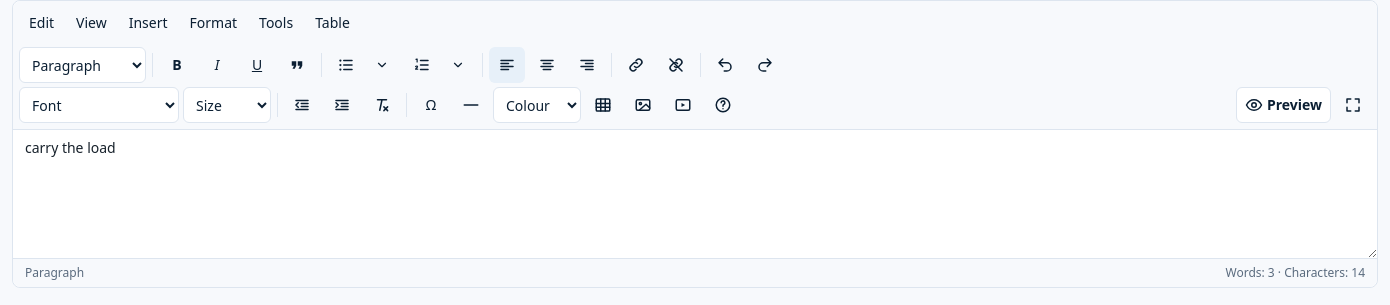
Scenario: MarkdownTextarea inline formatting › makes the selection bold, and bold again removes it
The width and height of the screenshot is (1390, 305).
Click the button named "Bold" at (177, 65), box [159,47,195,83]
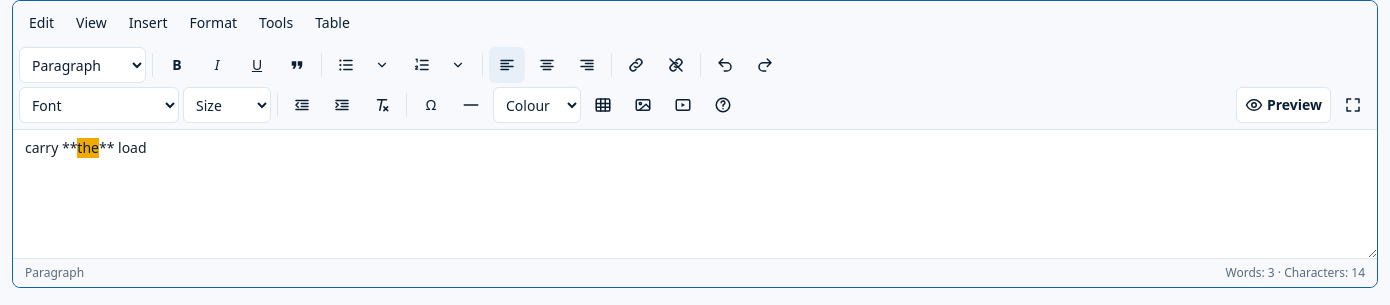
Expected: the text box named "Body" holds "carry **the** load", [13,130,1377,258]
Click the button named "Bold" at (177, 65), box [159,47,195,83]
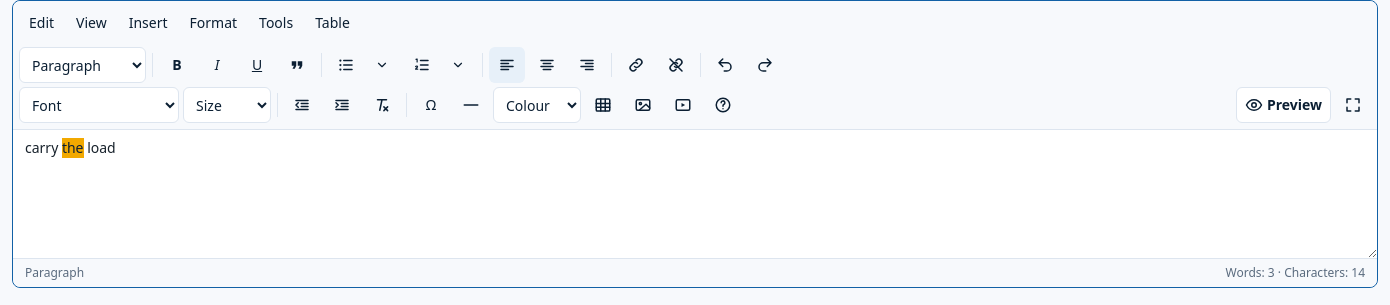
Expected: the text box named "Body" holds "carry the load", [13,130,1377,258]
